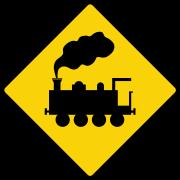Barrier Ahead: (12, 14, 170, 166)
